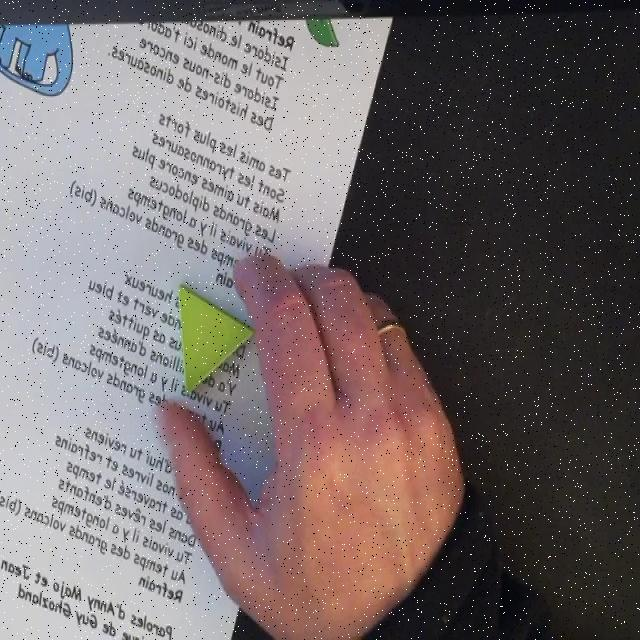triangle: (177, 283, 256, 393)
